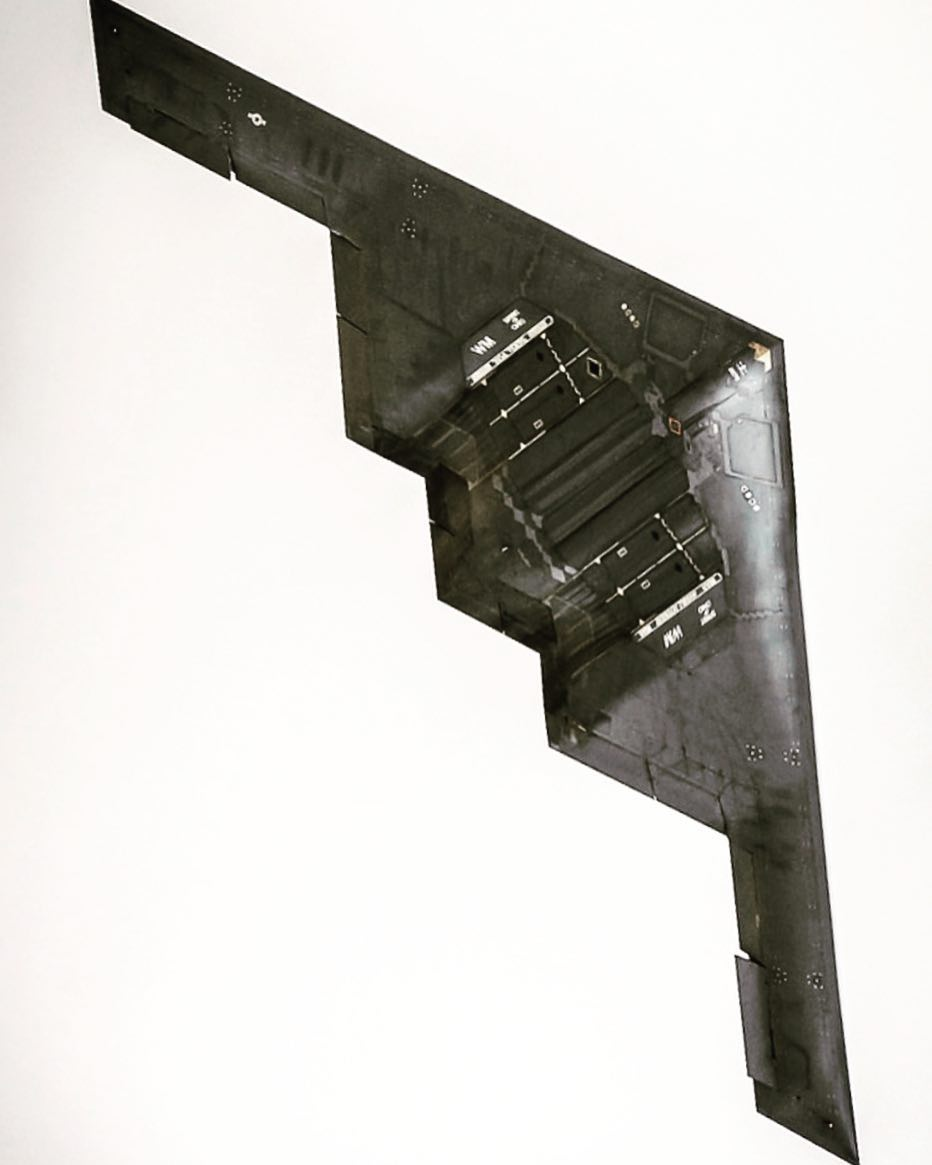B2: (88, 1, 860, 1165)
